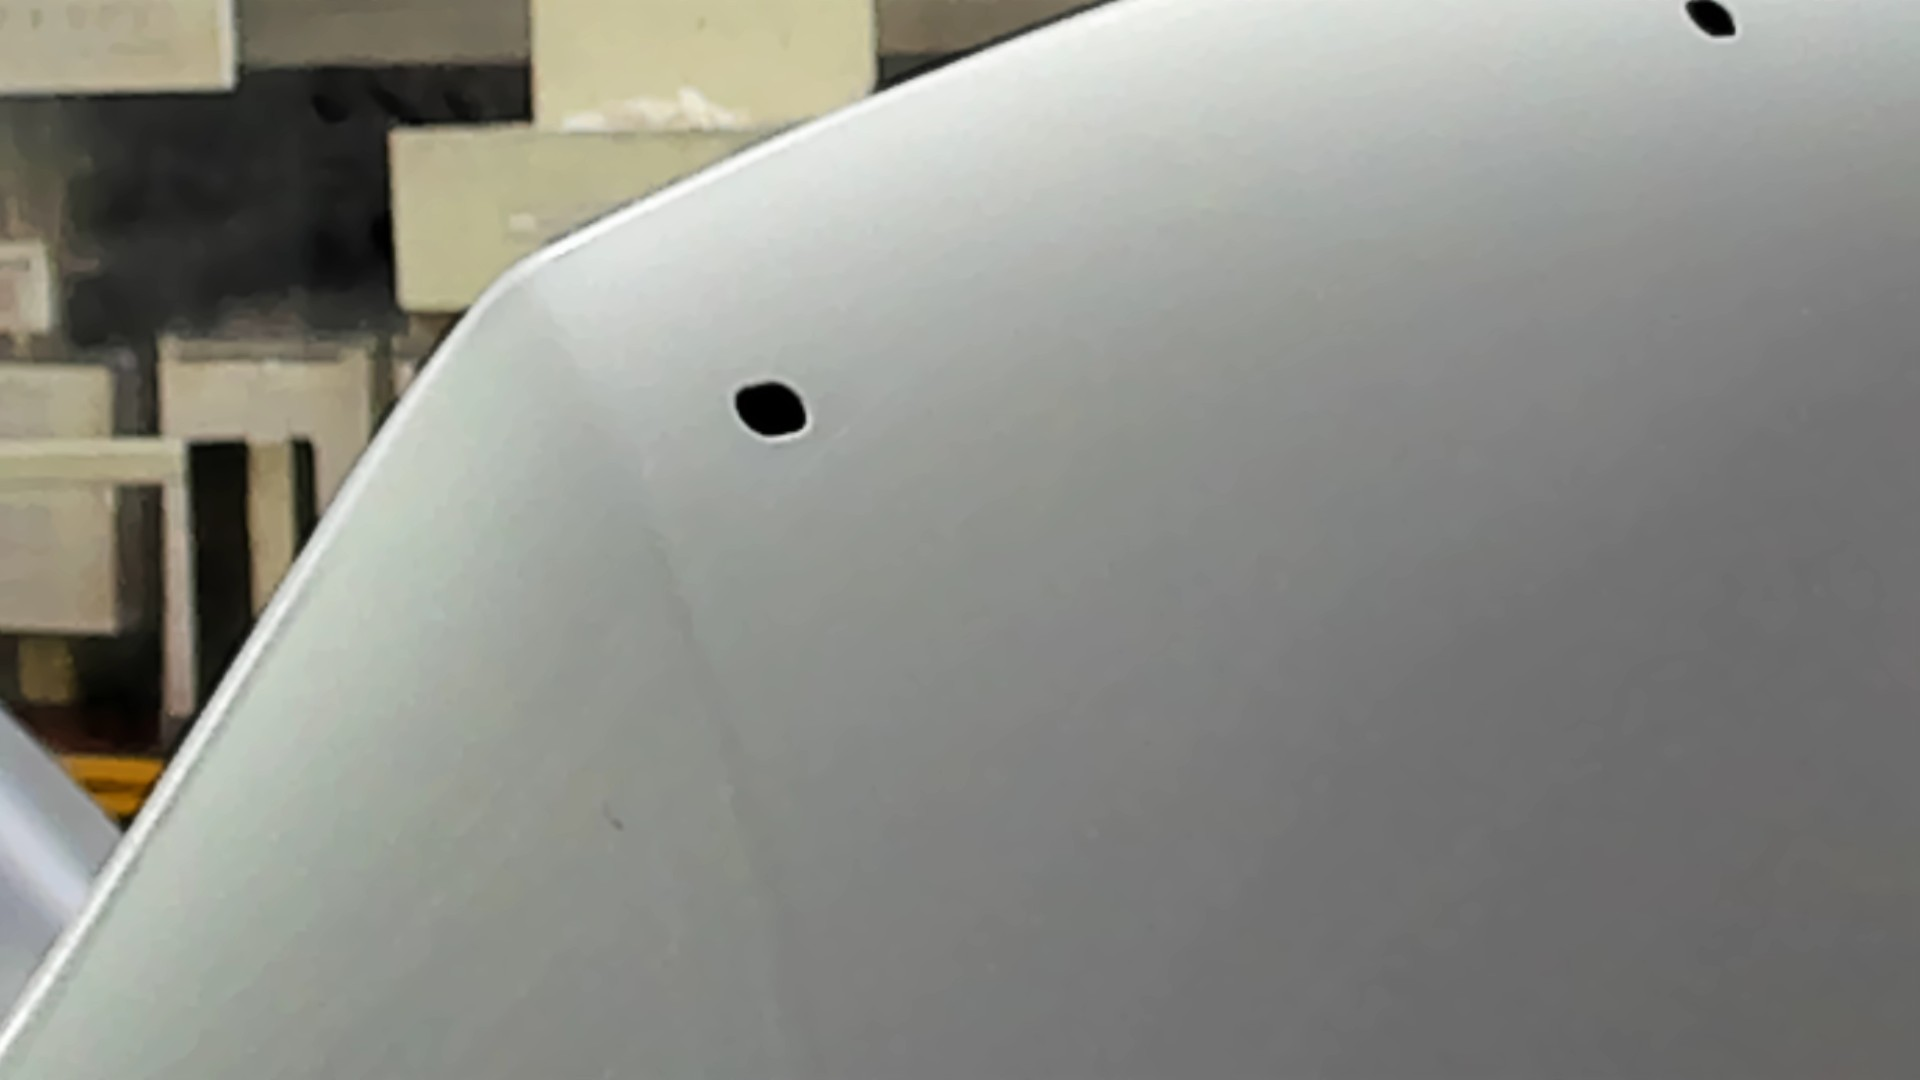amorfo: (725, 376, 814, 442), (1677, 1, 1747, 46)
